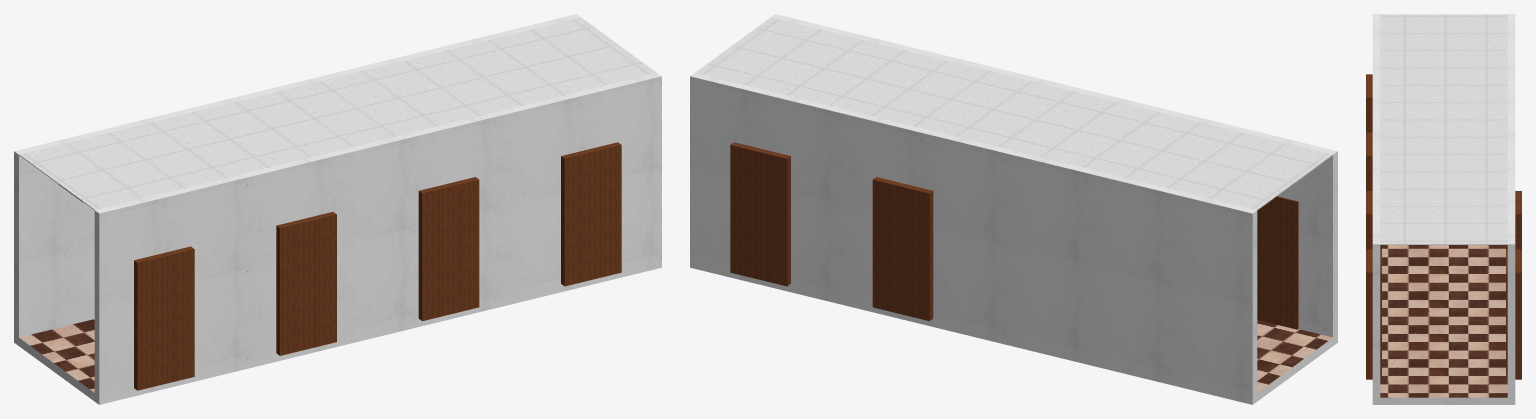
Rendered from hallway_v2_texture.fbx.
3 views of the same model, side by side, from view 1: azimuth 30°, elevation 25°; view 2: azimuth 150°, elevation 25°; view 3: azimuth 270°, elevation 25° (orthographic). The views are drawn at different scales.
Parts seen in each view (by area): view 1: hallway.022, roof_hallway.027, door_elevator.107; view 2: hallway.022, roof_hallway.027, door_elevator.108, door_elevator.107; view 3: roof_hallway.027, hallway.022, door_elevator.107, door_elevator.108.
Part boxes in pixels (x1,y1,x2,y2): hallway.022: (14, 14, 661, 404); roof_hallway.027: (19, 17, 656, 210); door_elevator.107: (134, 142, 621, 390); hallway.022: (690, 14, 1337, 404); roof_hallway.027: (695, 17, 1332, 210); door_elevator.108: (730, 142, 933, 320); door_elevator.107: (1257, 196, 1298, 329); roof_hallway.027: (1380, 14, 1507, 244); hallway.022: (1372, 14, 1515, 404); door_elevator.107: (1366, 74, 1381, 379); door_elevator.108: (1506, 191, 1521, 379).
Size of the model in its own units: 343 by 111 by 97.86.
